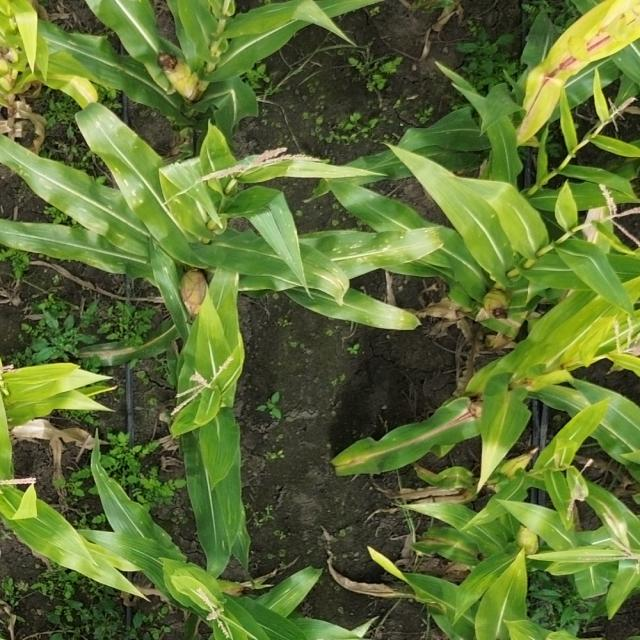gray-leaf-spot: (64, 165, 160, 250), (202, 492, 262, 566)
northern-leaf-blight: (522, 28, 620, 143), (394, 396, 491, 464)
southern-leaf-blight: (325, 234, 451, 282), (323, 298, 429, 335)
